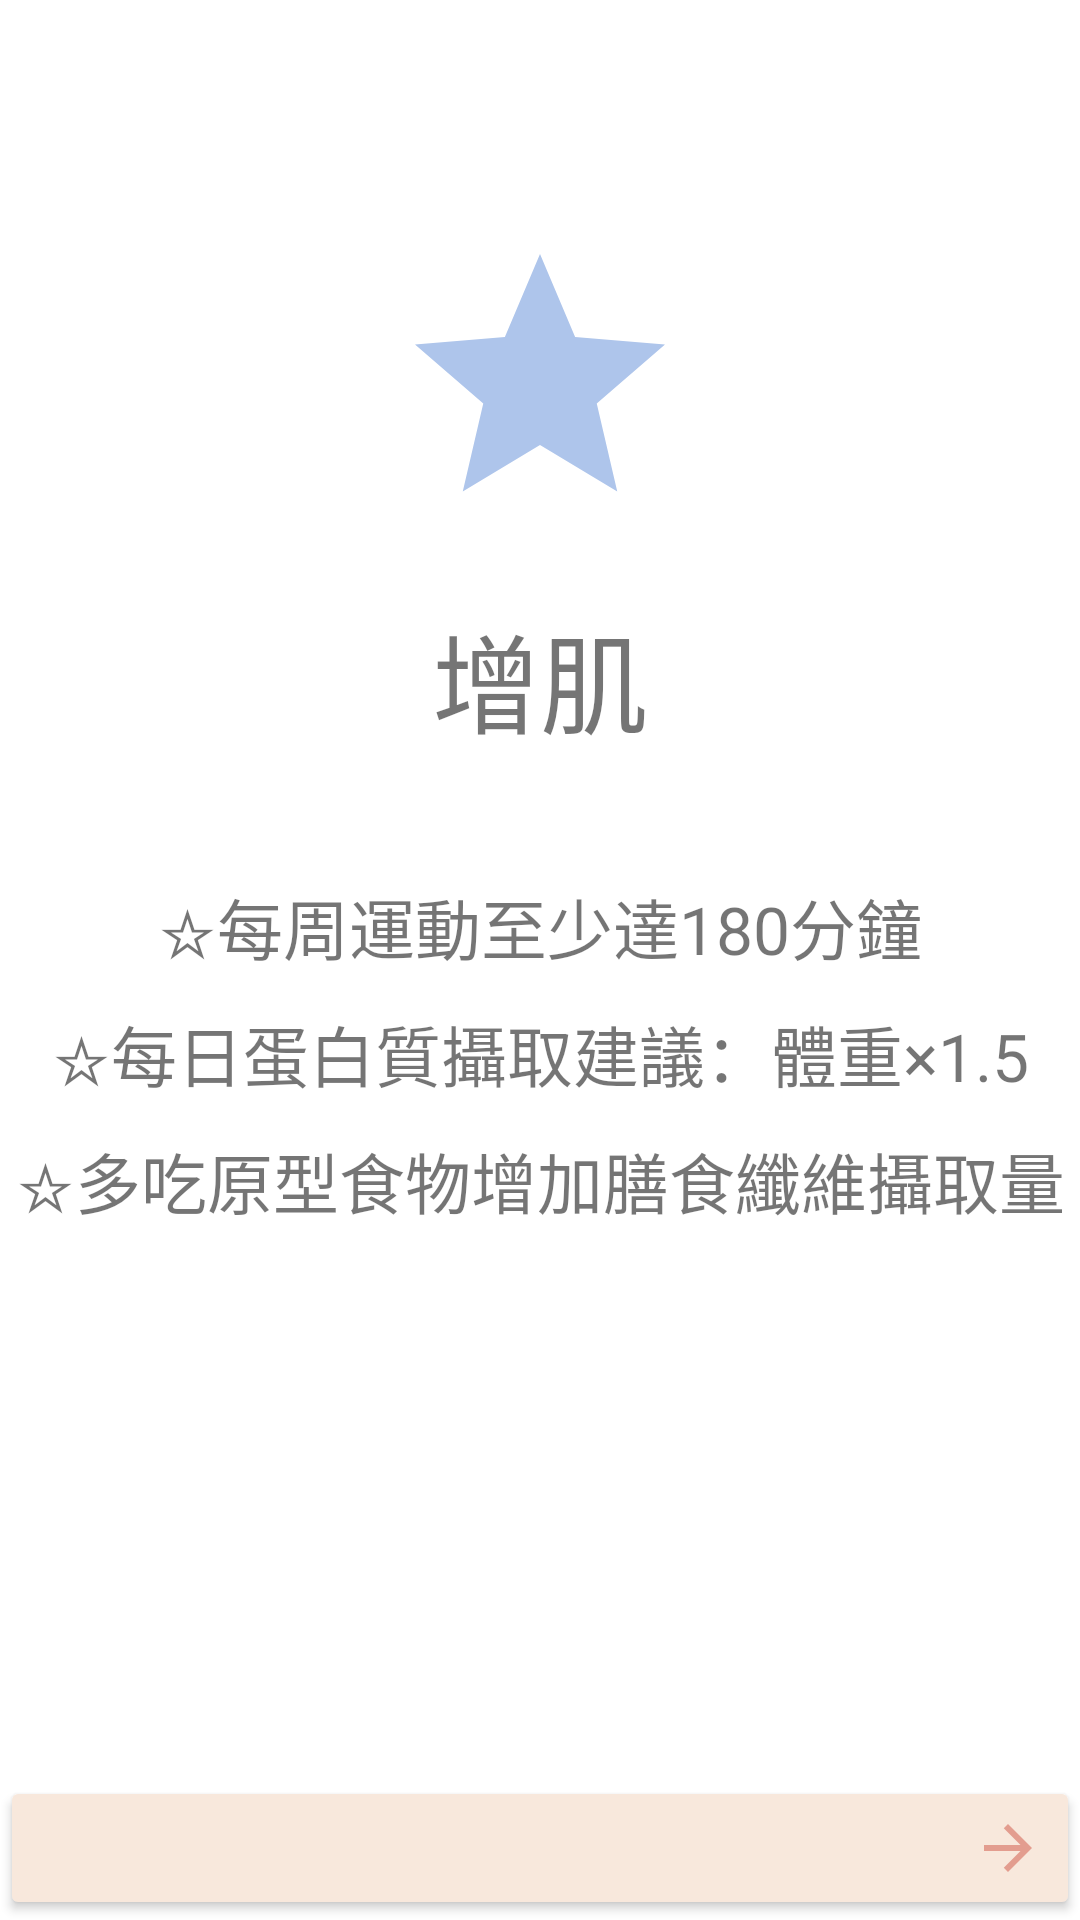

Screen size 1080px×1920px. Icon name, then its center in pixels as point (x, y):
star: point (540, 373)
